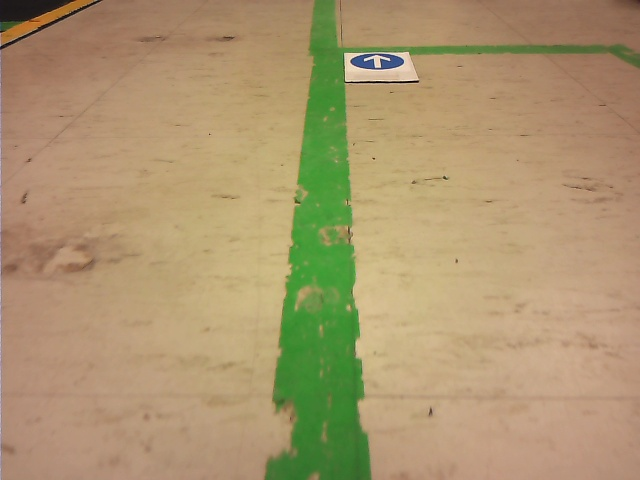GO FORWARD: (350, 53, 404, 69)
